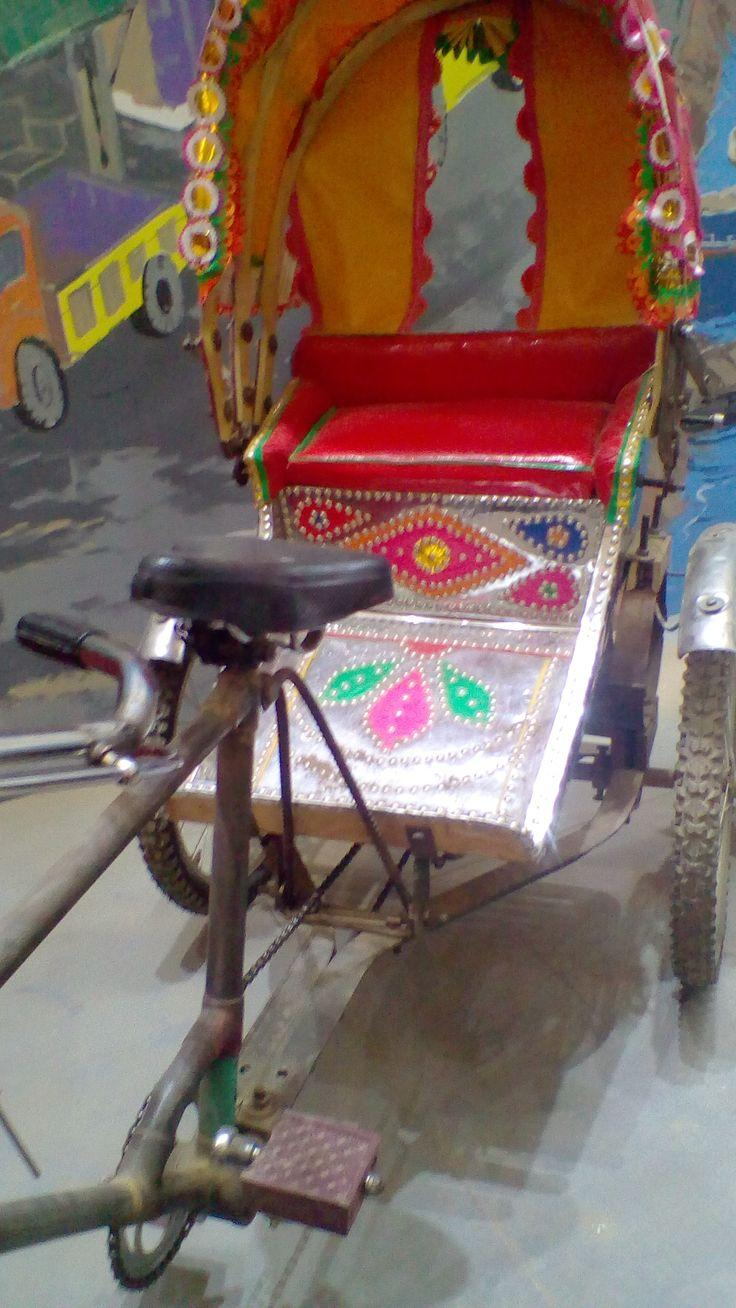Rickshaw: (3, 1, 728, 1301)
